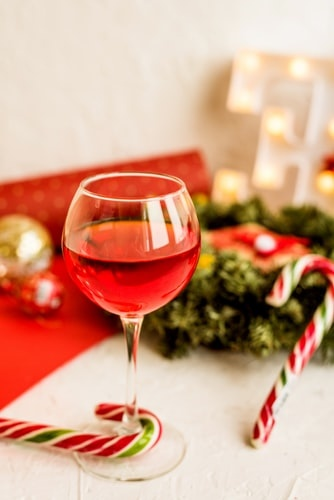whiskey: (66, 178, 193, 417)
